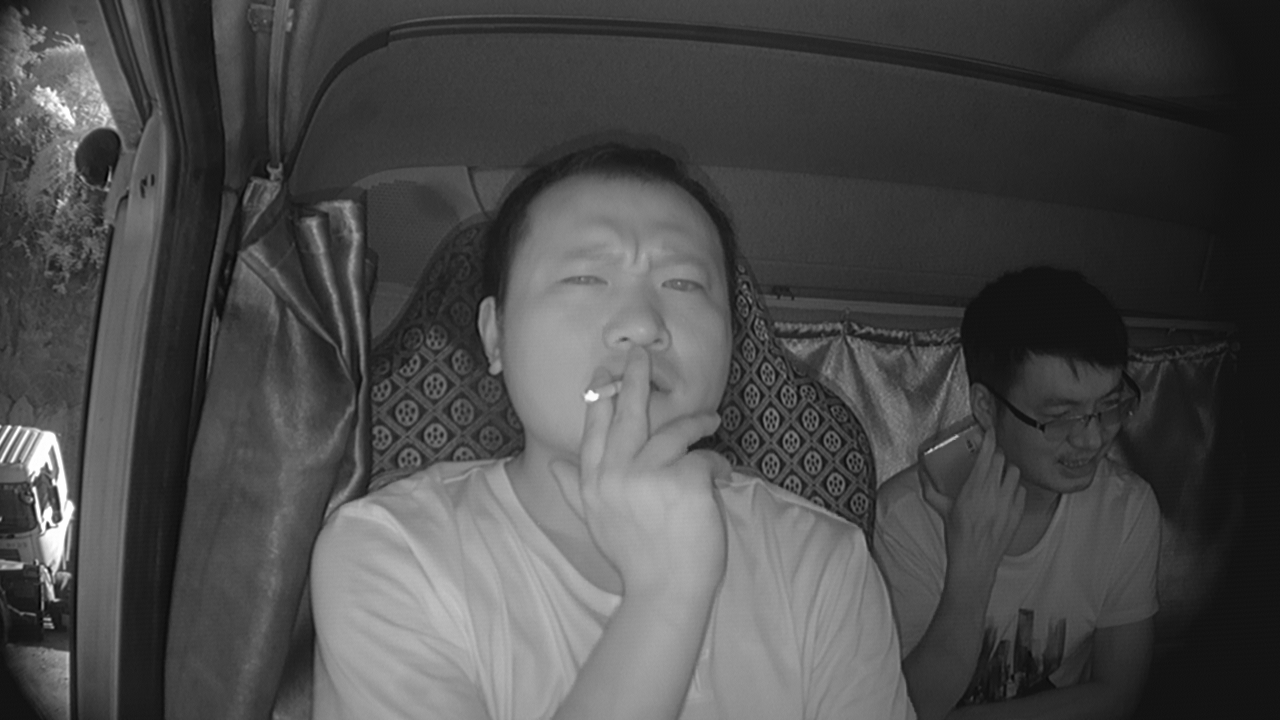hand: (564, 353, 730, 529)
